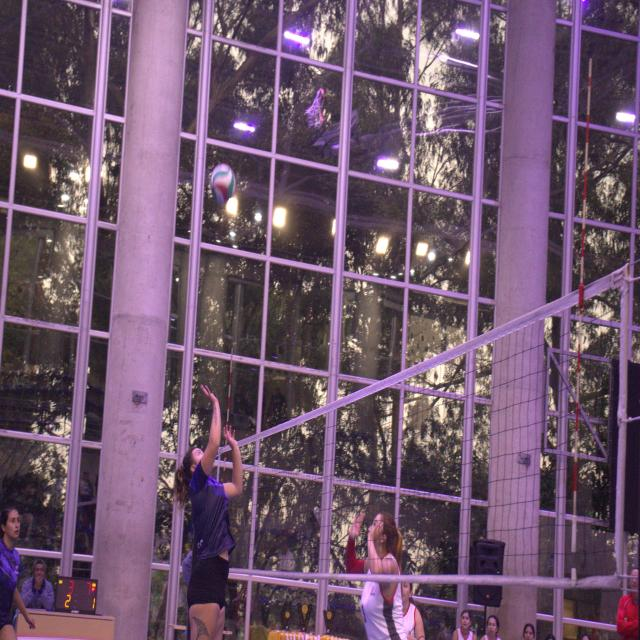volleyball: (210, 163, 235, 202)
